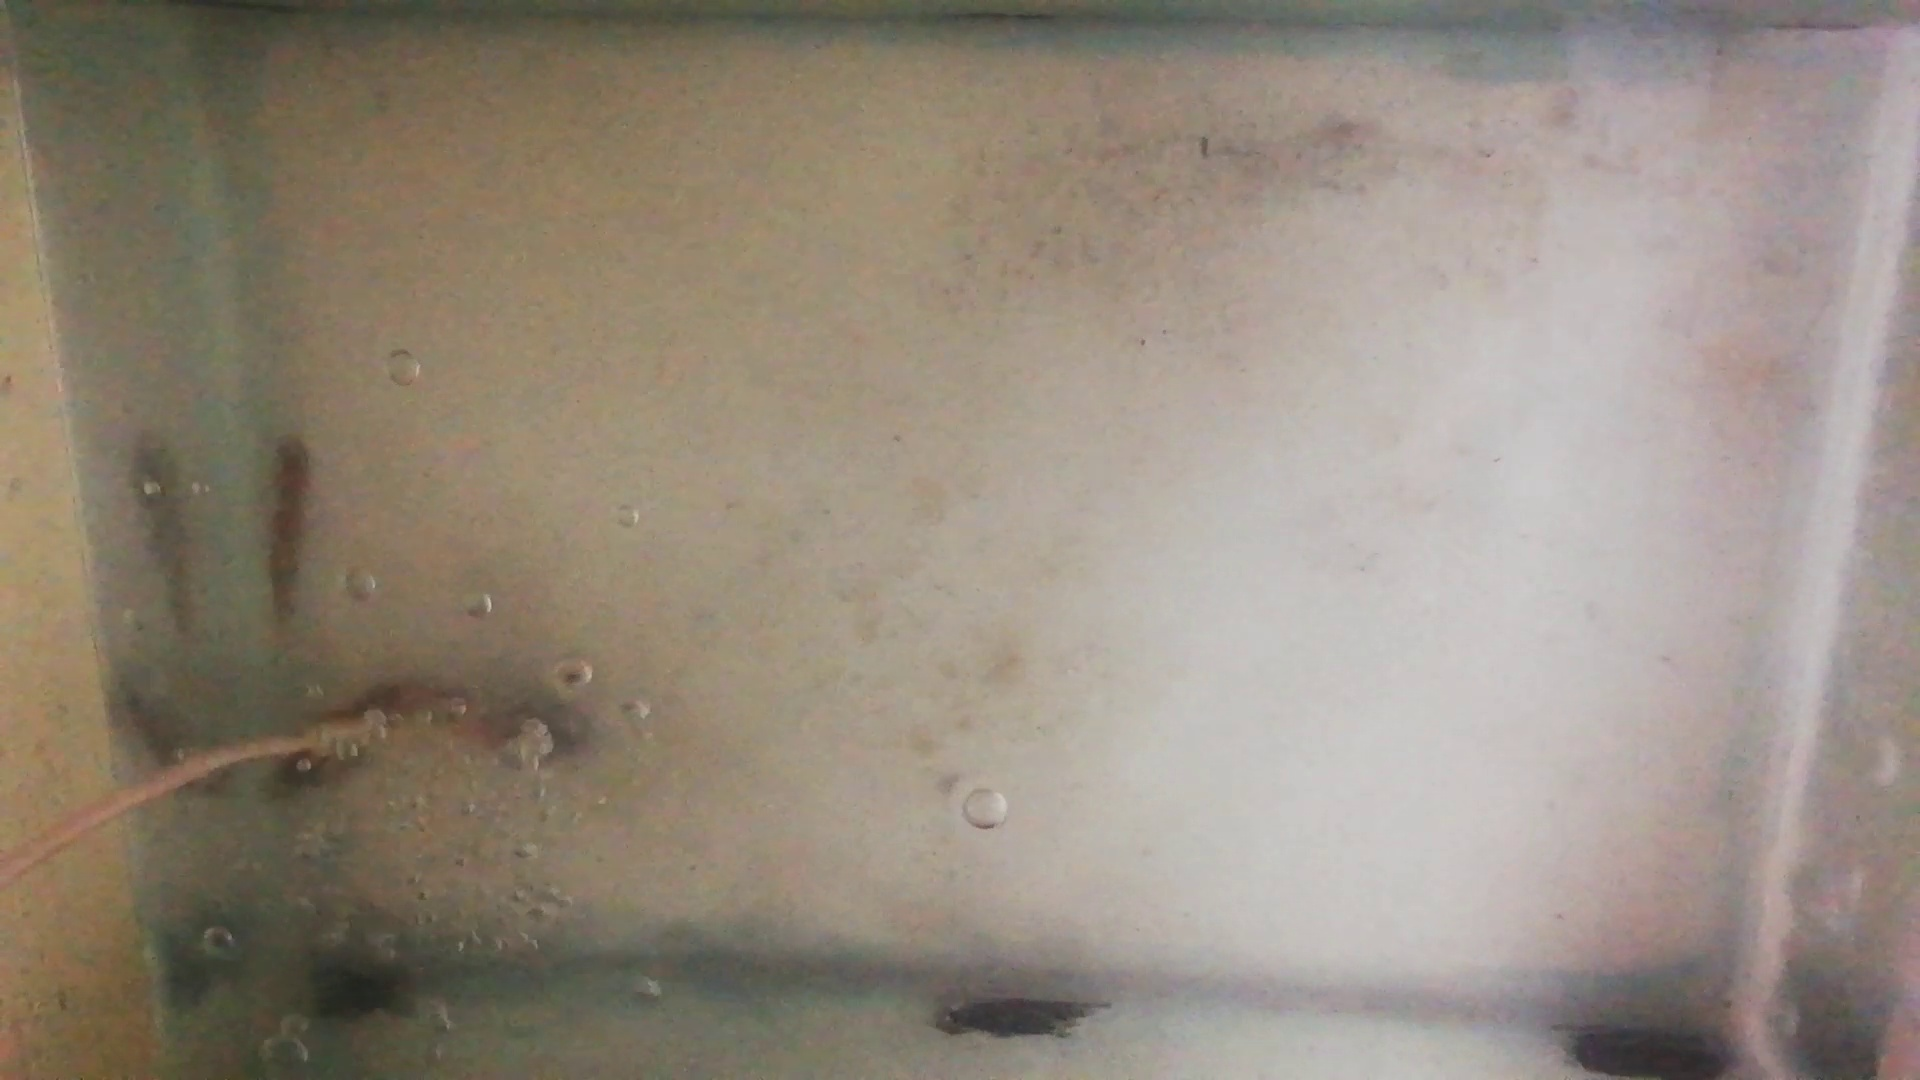fish: (280, 679, 467, 781), (264, 436, 320, 621)
